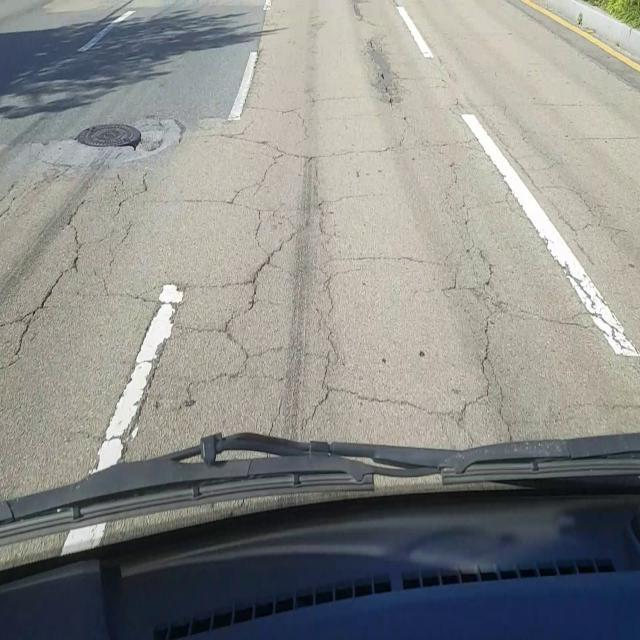pothole: (74, 121, 162, 155)
